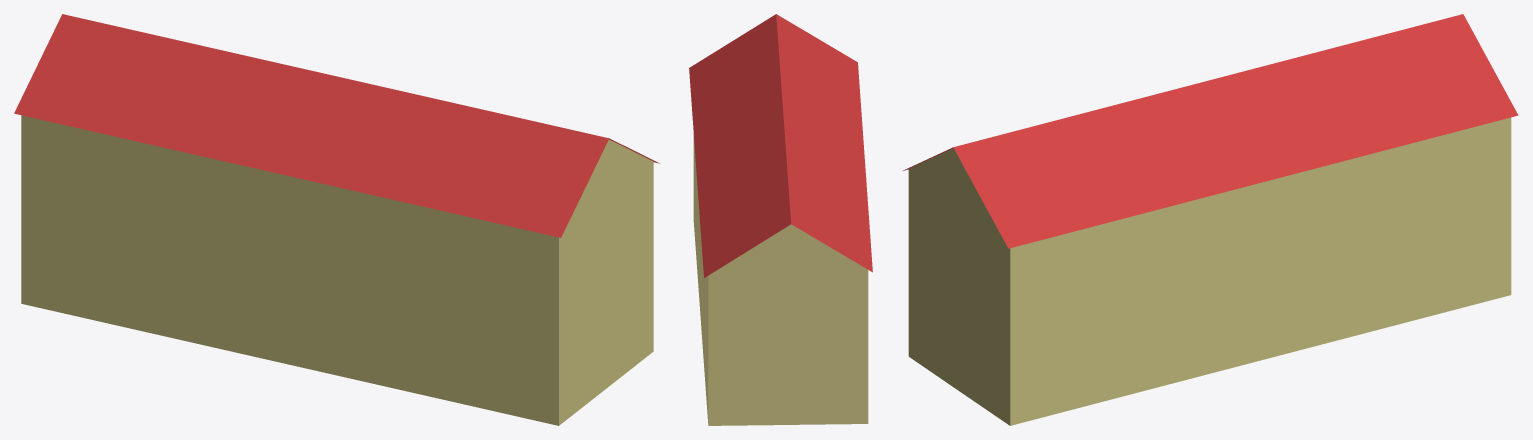
3 views of the same model, side by side, from view 1: azimuth 30°, elevation 25°; view 2: azimuth 150°, elevation 25°; view 3: azimuth 270°, elevation 25° (orthographic). The views are drawn at different scales.
Size of the model in its own units: 23.05 by 29.12 by 12.7.
